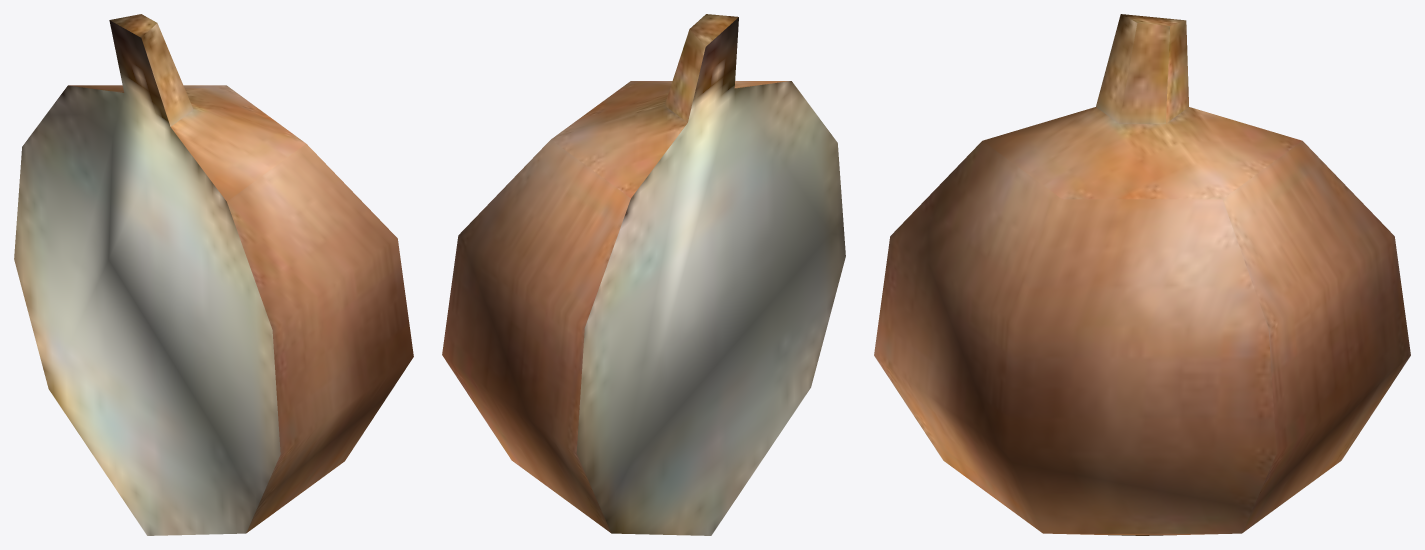
Rendered from Onion_001.glb.
The picture shows the model from 3 angles, left to right: view 1: azimuth 30°, elevation 25°; view 2: azimuth 150°, elevation 25°; view 3: azimuth 270°, elevation 25°; orthographic projection.
Visible parts, largest first — view 1: Onion.001; view 2: Onion.001; view 3: Onion.001.
Part boxes in pixels (left/top/right/bottom): Onion.001: left=14, top=14, right=413, bottom=535; Onion.001: left=442, top=14, right=845, bottom=535; Onion.001: left=874, top=14, right=1410, bottom=535.
Size of the model in its own units: 0.0693 by 0.1568 by 0.1477.
1 material, 1 textured.
